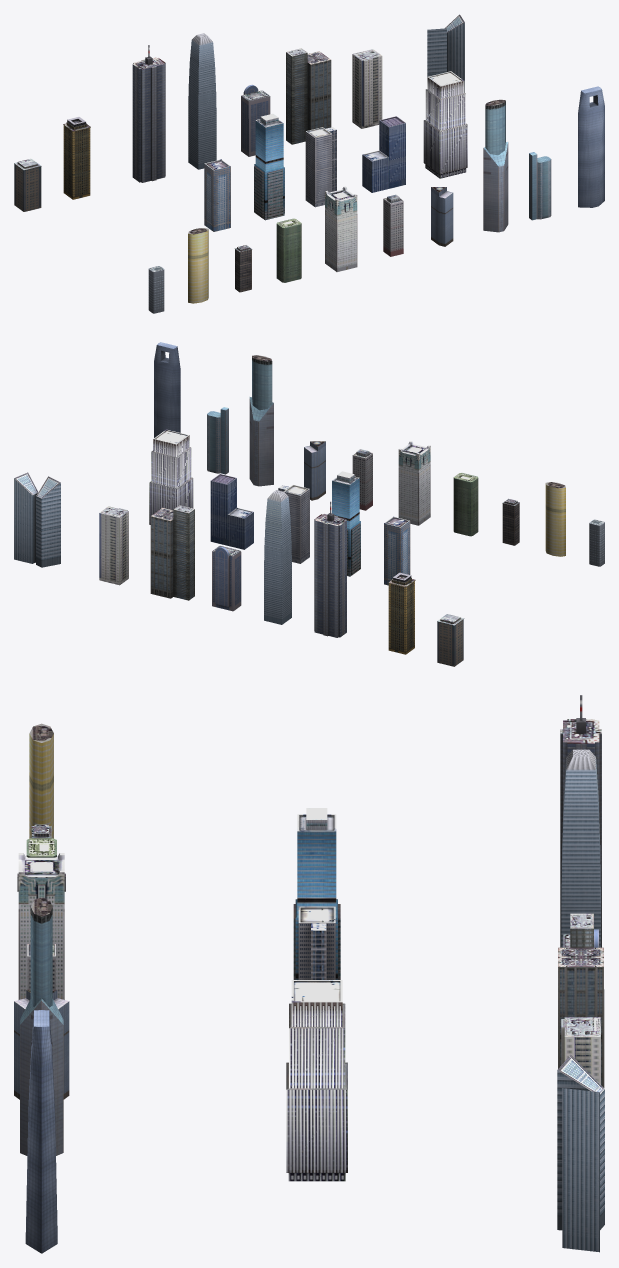
File: skyscrapers_SigleTex.FBX
3 renders of one model, top to bottom at view 1: azimuth 30°, elevation 25°; view 2: azimuth 150°, elevation 25°; view 3: azimuth 270°, elevation 25°, orthographic. The views are drawn at different scales.
Visible parts, largest first — view 1: skyscraper_b13, skyscraper_b3, skyscraper_b6, skyscraper_b4, skyscraper_b21, skyscraper_b23, skyscraper_b10, skyscraper_b18, skyscraper_b12, skyscraper_b7, skyscraper_b11, skyscraper_b2 (+12 smaller); view 2: skyscraper_b6, skyscraper_b3, skyscraper_b4, skyscraper_b13, skyscraper_b21, skyscraper_b18, skyscraper_b12, skyscraper_b23, skyscraper_b7, skyscraper_b24, skyscraper_b2, skyscraper_b10 (+12 smaller); view 3: skyscraper_b13, skyscraper_b23, skyscraper_b4, skyscraper_b8, skyscraper_b21, skyscraper_b10, skyscraper_b6, skyscraper_b18, skyscraper_b11, skyscraper_b24, skyscraper_b15, skyscraper_b3 (+2 smaller).
Boxes of the visible parts, box(x1,y1,x2,y2) form: skyscraper_b13: box(423, 71, 467, 178); skyscraper_b3: box(132, 45, 165, 182); skyscraper_b6: box(286, 48, 331, 144); skyscraper_b4: box(188, 33, 216, 169); skyscraper_b21: box(483, 99, 508, 232); skyscraper_b23: box(578, 86, 604, 207); skyscraper_b10: box(254, 113, 284, 220); skyscraper_b18: box(325, 186, 357, 271); skyscraper_b12: box(362, 116, 405, 192); skyscraper_b7: box(352, 49, 382, 128); skyscraper_b11: box(305, 127, 336, 207); skyscraper_b2: box(63, 117, 90, 199); skyscraper_b6: box(150, 505, 194, 600); skyscraper_b3: box(314, 501, 346, 637); skyscraper_b4: box(264, 490, 291, 624); skyscraper_b13: box(149, 429, 193, 524); skyscraper_b21: box(249, 355, 273, 486); skyscraper_b18: box(398, 441, 430, 525); skyscraper_b12: box(210, 474, 253, 549); skyscraper_b23: box(154, 342, 180, 437); skyscraper_b7: box(99, 506, 128, 585); skyscraper_b24: box(36, 476, 60, 567); skyscraper_b2: box(388, 572, 415, 654); skyscraper_b10: box(332, 471, 360, 576); skyscraper_b13: box(286, 980, 347, 1181); skyscraper_b23: box(25, 1010, 57, 1253); skyscraper_b4: box(561, 749, 600, 947); skyscraper_b8: box(562, 1088, 599, 1252); skyscraper_b21: box(20, 897, 63, 1155); skyscraper_b10: box(293, 808, 340, 979); skyscraper_b6: box(558, 913, 604, 1087); skyscraper_b18: box(17, 853, 65, 999); skyscraper_b11: box(298, 906, 335, 979); skyscraper_b24: box(557, 1054, 604, 1230); skyscraper_b15: box(29, 723, 53, 838); skyscraper_b3: box(560, 695, 601, 947).
Bounding box in the file's own units: 31726 × 8819 × 18359.
